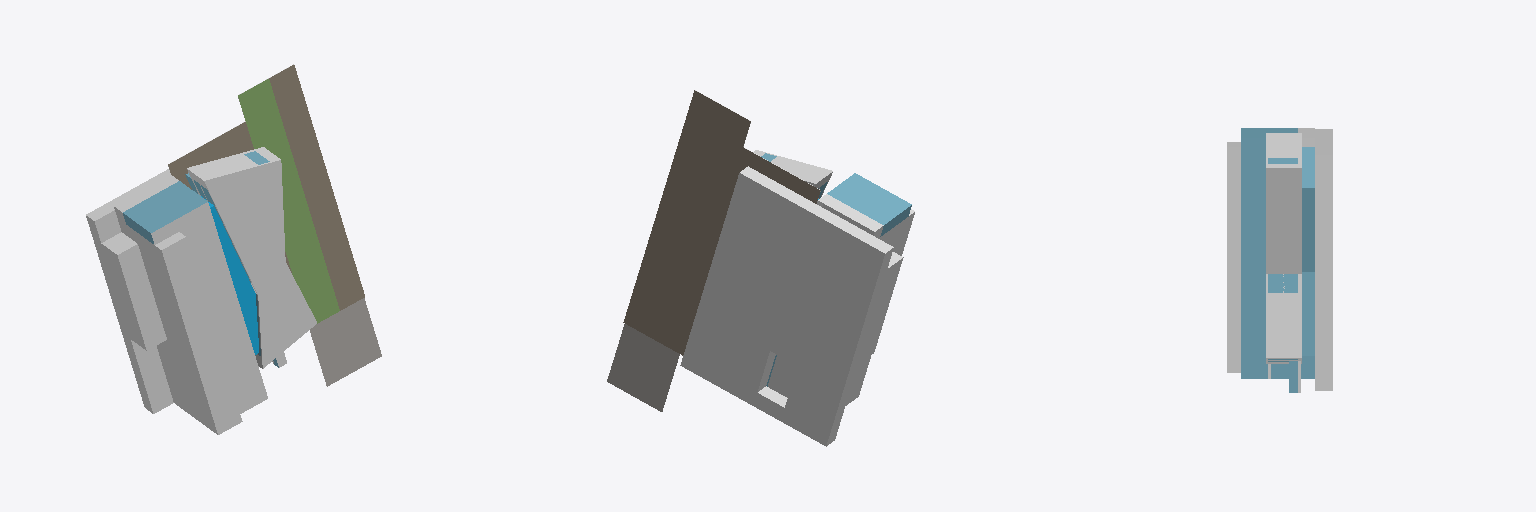
Rendered from opt2-4.obj.
The picture shows the model from 3 angles: view 1: azimuth 30°, elevation 25°; view 2: azimuth 150°, elevation 25°; view 3: azimuth 270°, elevation 25°; orthographic projection.
Bounding box in the file's own units: 338 × 371 × 108.